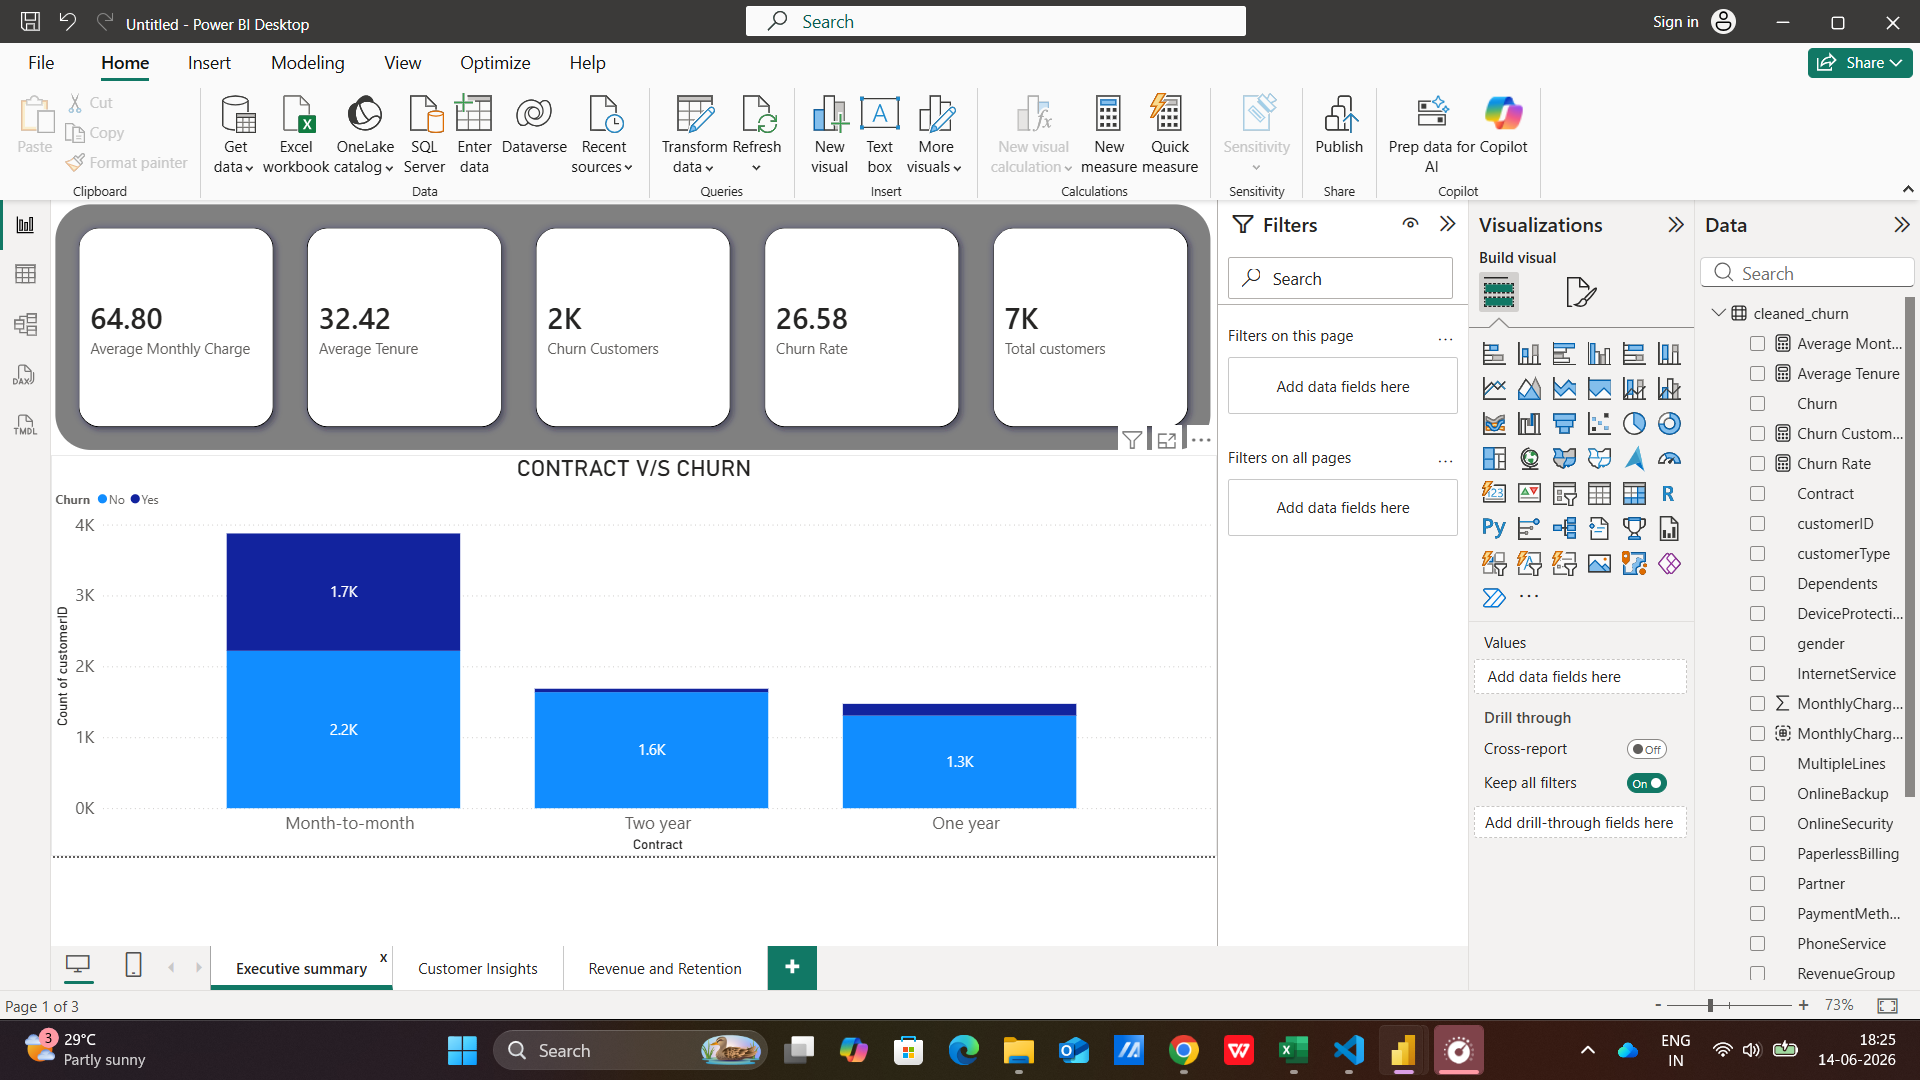

Layout of this report page (visuals, bound fields, positions):
{"tool":"powerbi","page":{"name":"Executive summary","canvas":[1280,720],"ordinal":0},"visuals":[{"type":"cardVisual","fields":{"Data":["cleaned_churn.Average Monthly Charge","cleaned_churn.Average Tenure","cleaned_churn.Churn Customers","cleaned_churn.Churn Rate","cleaned_churn.Total customers"]},"box":[0,0,1280.3,279.9],"z":0},{"type":"columnChart","title":"CONTRACT V/S CHURN","fields":{"Category":["cleaned_churn.Contract"],"Y":["CountNonNull(cleaned_churn.customerID)"],"Series":["cleaned_churn.Churn"]},"box":[0,279.9,1280.3,440.5],"z":1}]}

Visuals, with their boxes on the page's 1280x720 design canvas (x1, y1, x2, y2). These are canvas units, not pixel positions in the 1920x1080 screenshot, which may show the page scaled, cropped or inside an application window:
cardVisual - cleaned_churn.Average Monthly Charge x cleaned_churn.Average Tenure: region(0, 0, 1280, 280)
"CONTRACT V/S CHURN" columnChart: region(0, 280, 1280, 720)
